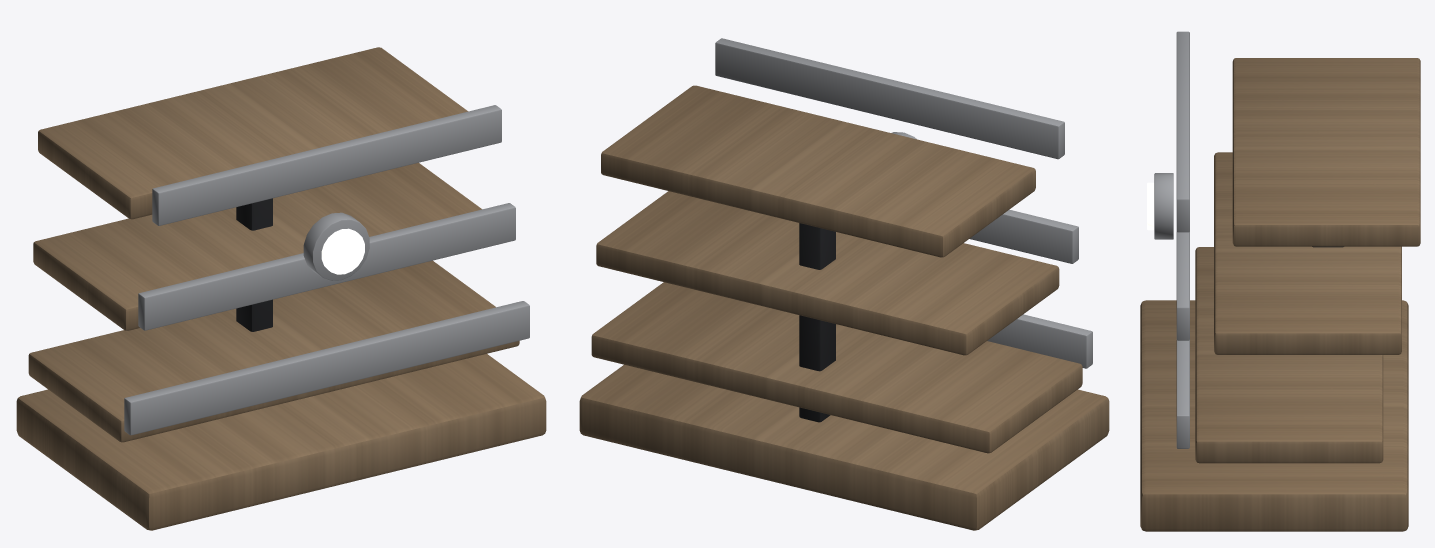
File: pf_display_checkout_display_t2.glb
3 renders of one model, left to right at view 1: azimuth 30°, elevation 25°; view 2: azimuth 150°, elevation 25°; view 3: azimuth 270°, elevation 25°, orthographic.
Visible parts, largest first — view 1: Counter_Display_Base, Riser_03, Riser_01, Riser_02, Riser_Lip_01, Riser_Lip_03, Riser_Lip_02, LIGHT_HOUSING_01, Riser_Support_01, LIGHT_PUCK_01; view 2: Riser_03, Counter_Display_Base, Riser_01, Riser_02, Riser_Lip_03, Riser_Support_01, Riser_Lip_02, Riser_Lip_01; view 3: Riser_03, Counter_Display_Base, Riser_01, Riser_02, Riser_Lip_03, Riser_Lip_01, Riser_Lip_02, LIGHT_HOUSING_01, LIGHT_PUCK_01.
Boxes of the visible parts, x1,y1,x2,y2 form: Counter_Display_Base: (16,354,546,530); Riser_03: (38,47,468,219); Riser_01: (28,260,519,442); Riser_02: (33,162,481,330); Riser_Lip_01: (124,301,529,435); Riser_Lip_03: (152,105,501,225); Riser_Lip_02: (138,203,515,330); LIGHT_HOUSING_01: (303,212,369,280); Riser_Support_01: (236,198,272,331); LIGHT_PUCK_01: (321,228,364,274); Riser_03: (601,85,1035,257); Counter_Display_Base: (579,364,1109,530); Riser_01: (591,282,1082,453); Riser_02: (596,191,1059,355); Riser_Lip_03: (715,38,1064,159); Riser_Support_01: (799,223,835,422); Riser_Lip_02: (969,209,1078,263); Riser_Lip_01: (987,314,1092,368); Riser_03: (1232,58,1420,246); Counter_Display_Base: (1140,300,1408,531); Riser_01: (1195,247,1383,463); Riser_02: (1214,152,1401,354); Riser_Lip_03: (1176,31,1189,232); Riser_Lip_01: (1176,339,1189,448); Riser_Lip_02: (1176,231,1189,340); LIGHT_HOUSING_01: (1154,173,1173,239); LIGHT_PUCK_01: (1147,182,1154,230).
Size of the model in its own units: 0.62 by 0.48 by 0.376.
5 materials, 2 textured.
